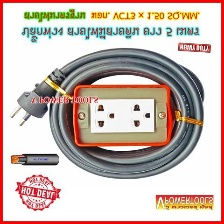three_eye_plug: (71, 83, 171, 146)
